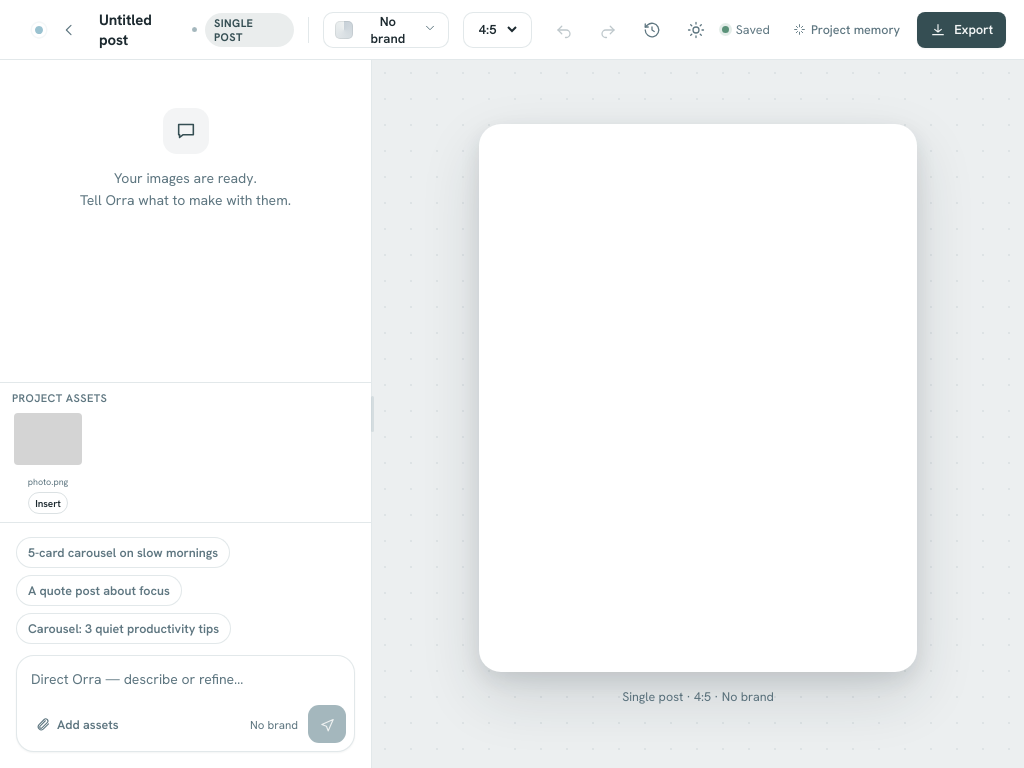
Scenario: WorkspacePage chat persistence › disables textarea and shows sending state while message is being sent
In the text box with placeholder "Direct Orra — describe or refine…": {"x": 186, "y": 675} left=17, top=656, right=354, bottom=694, type "Hello"
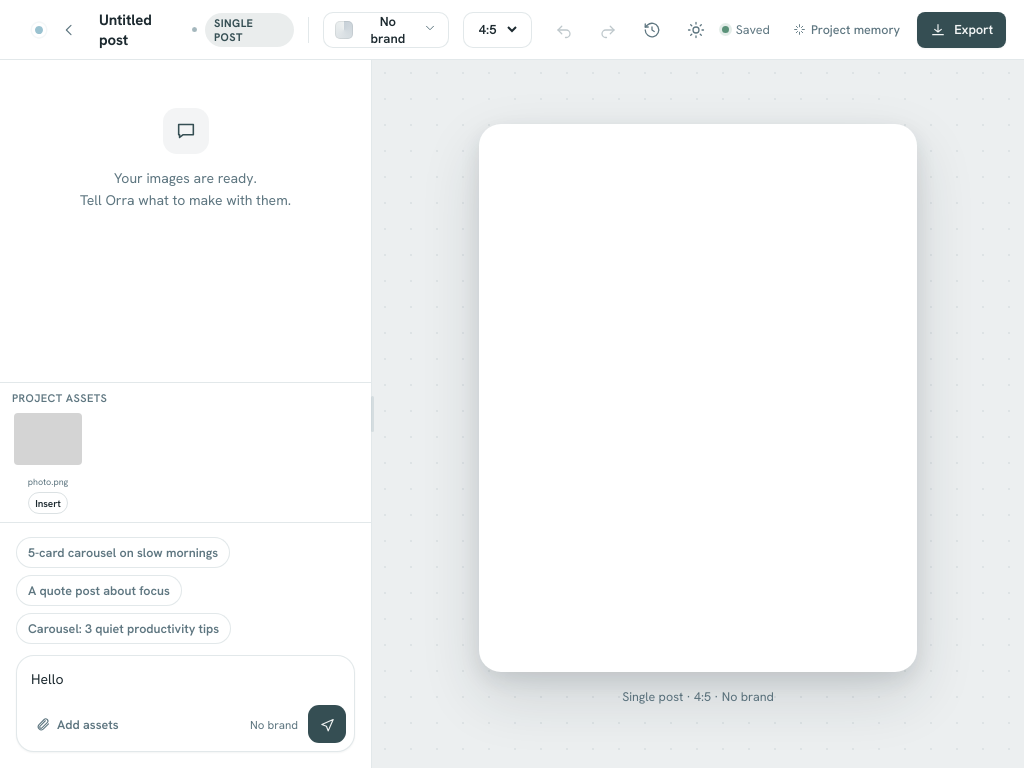
Click the button named "Send": {"x": 327, "y": 724} left=308, top=705, right=346, bottom=743
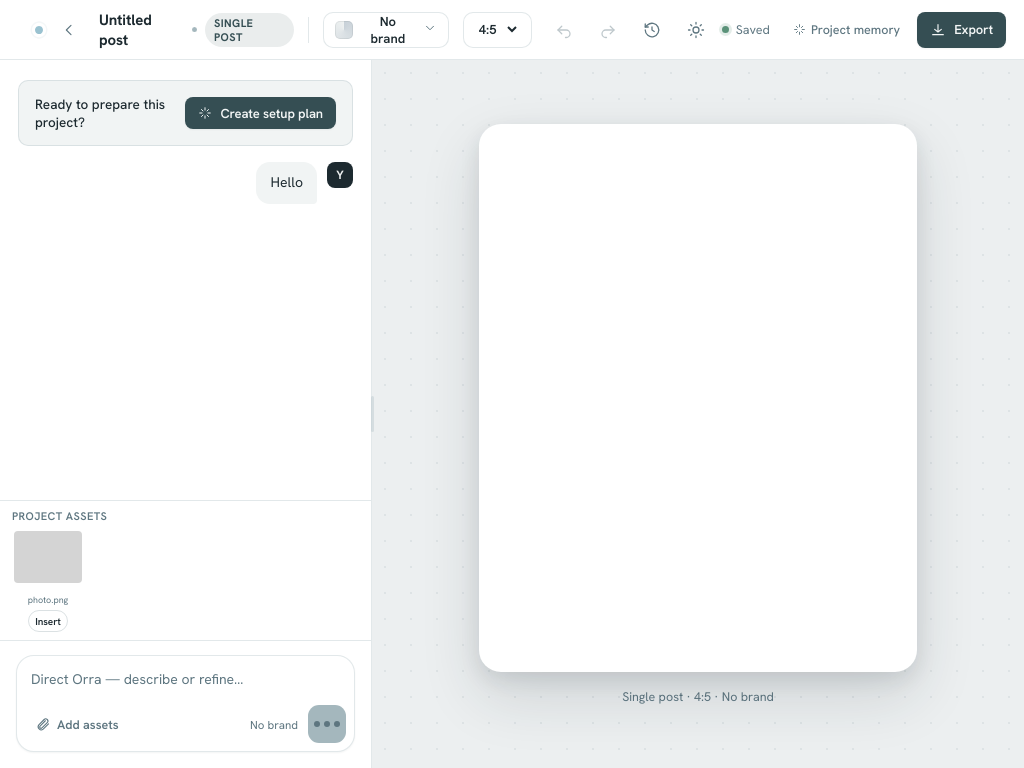
Check: the text box with placeholder "Direct Orra — describe or refine…" is disabled, box left=17, top=656, right=354, bottom=694
Check: the button named "Send" is disabled, box left=308, top=705, right=346, bottom=743
